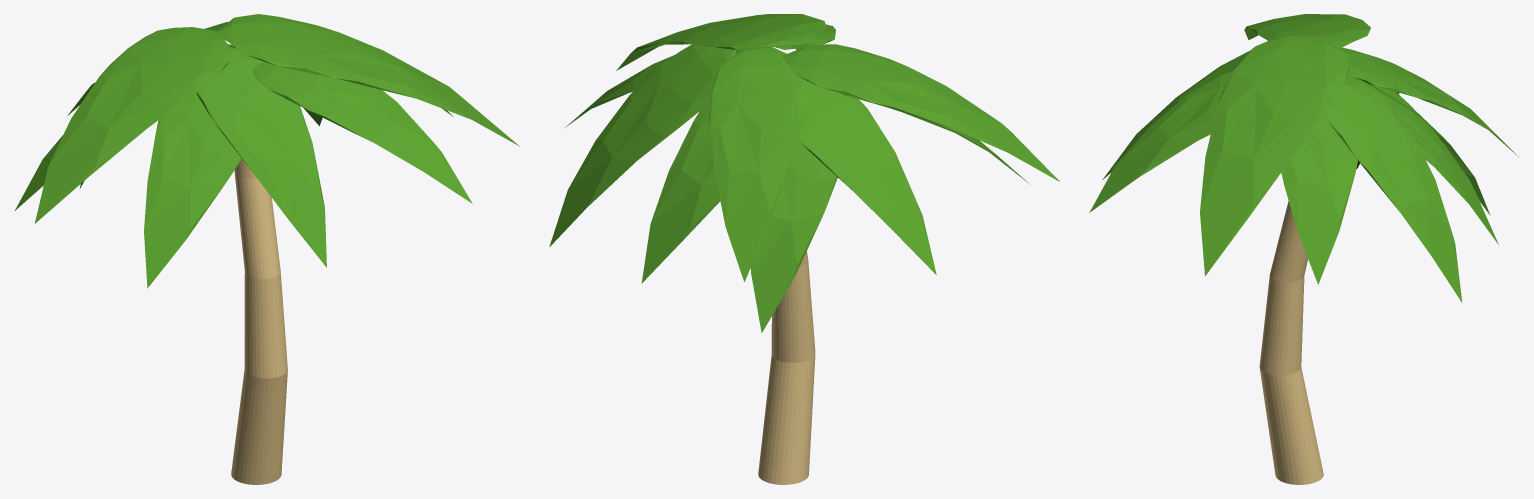
The model's file is palmier-OPTIMISER.fbx.
3 renders of one model, left to right at view 1: azimuth 30°, elevation 25°; view 2: azimuth 150°, elevation 25°; view 3: azimuth 270°, elevation 25°, orthographic. The views are drawn at different scales.
Visible parts, largest first — view 1: Cone, Cylinder, Cone.003, Cone.005, Cone.002, Cone.004, Cone.007; view 2: Cone.001, Cone.010, Cone.007, Cone, Cylinder, Cone.008, Cone.006, Cone.002, Cone.009; view 3: Cone.002, Cylinder, Cone.010, Cone.009, Cone.004, Cone.001, Cone.006, Cone, Cone.003, Cone.008.
Part boxes in pixels (bbox=[...]): Cone: bbox=[34, 27, 231, 223]; Cylinder: bbox=[231, 159, 287, 484]; Cone.003: bbox=[196, 47, 326, 267]; Cone.005: bbox=[144, 93, 241, 288]; Cone.002: bbox=[215, 14, 519, 146]; Cone.004: bbox=[253, 61, 472, 203]; Cone.007: bbox=[15, 43, 230, 210]; Cone.001: bbox=[709, 47, 810, 281]; Cone.010: bbox=[549, 44, 736, 246]; Cone.007: bbox=[798, 82, 936, 274]; Cone: bbox=[782, 44, 1059, 181]; Cylinder: bbox=[758, 251, 815, 484]; Cone.008: bbox=[750, 140, 837, 332]; Cone.006: bbox=[641, 102, 720, 283]; Cone.002: bbox=[616, 14, 826, 70]; Cone.009: bbox=[565, 48, 752, 127]; Cone.002: bbox=[1200, 35, 1349, 276]; Cylinder: bbox=[1259, 201, 1323, 484]; Cone.010: bbox=[1325, 82, 1462, 302]; Cone.009: bbox=[1281, 81, 1357, 284]; Cone.004: bbox=[1089, 70, 1233, 212]; Cone.001: bbox=[1339, 47, 1518, 156]; Cone.006: bbox=[1345, 74, 1498, 244]; Cone: bbox=[1244, 14, 1370, 48]; Cone.003: bbox=[1102, 51, 1249, 179]; Cone.008: bbox=[1363, 81, 1490, 215].
Bounding box in the file's own units: 1334 × 1217 × 1116.
